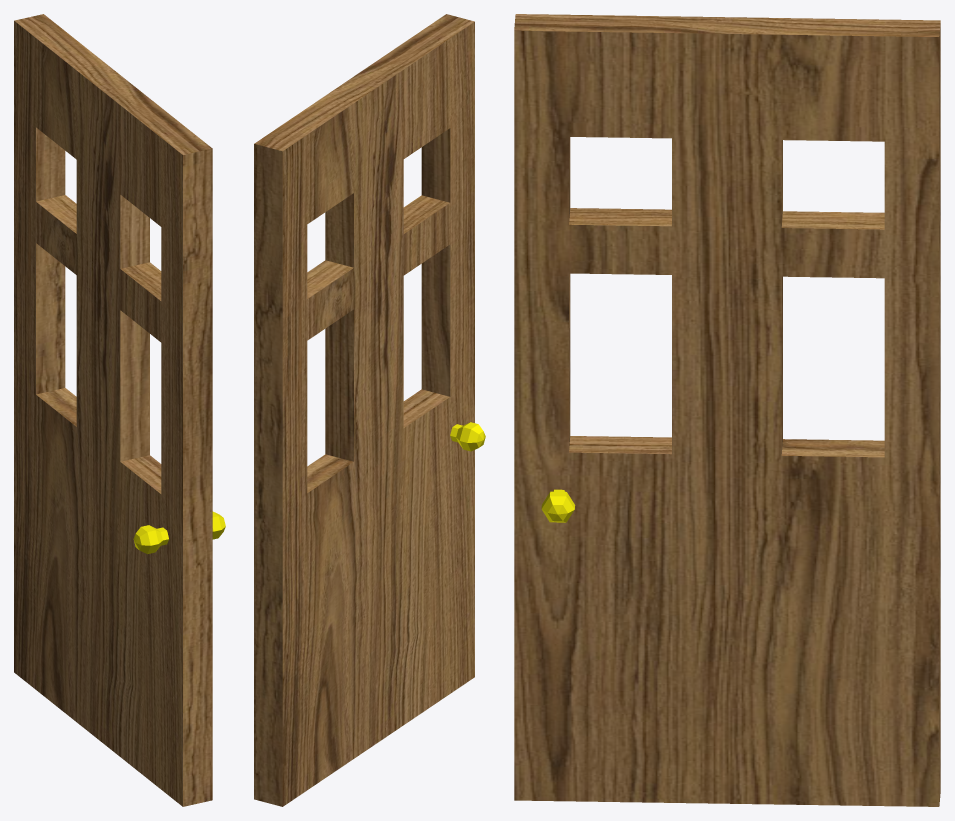
Rendered from Prop_puertaMadera_balcon.fbx.
The picture shows the model from 3 angles, left to right: view 1: azimuth 30°, elevation 25°; view 2: azimuth 150°, elevation 25°; view 3: azimuth 270°, elevation 25°; orthographic projection. The views are drawn at different scales.
Visible parts, largest first — view 1: Puerta_balcon3; view 2: Puerta_balcon3; view 3: Puerta_balcon3.
Boxes of the visible parts, bbox=[...] form: Puerta_balcon3: bbox=[14, 14, 225, 806]; Puerta_balcon3: bbox=[254, 14, 485, 806]; Puerta_balcon3: bbox=[514, 14, 940, 806].
Bounding box in the file's own units: 0.3168 × 2.26 × 1.13.
2 materials, 1 textured.
